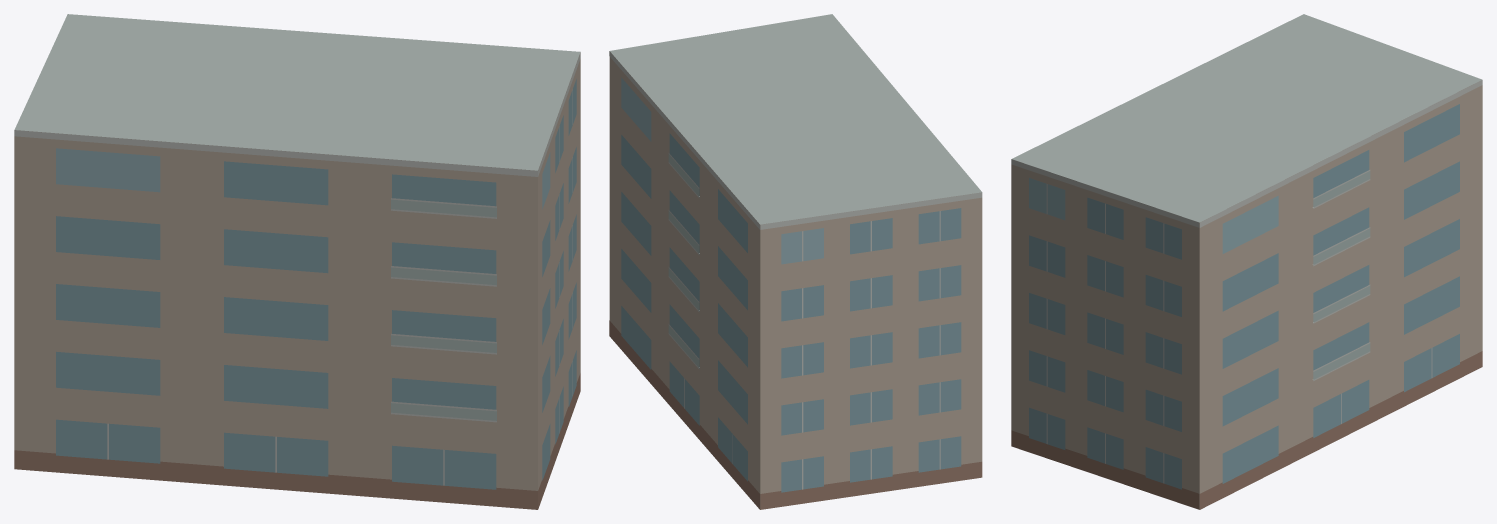
File: survey-upis-32677854.glb
3 views of the same model, side by side, from view 1: azimuth 30°, elevation 25°; view 2: azimuth 150°, elevation 25°; view 3: azimuth 270°, elevation 25° (orthographic). The views are drawn at different scales.
Parts seen in each view (by area): view 1: survey-upis-32677854.tmp; view 2: survey-upis-32677854.tmp; view 3: survey-upis-32677854.tmp.
Boxes of the visible parts, x1=… form: survey-upis-32677854.tmp: x1=14, y1=14, x2=580, y2=509; survey-upis-32677854.tmp: x1=609, y1=14, x2=982, y2=509; survey-upis-32677854.tmp: x1=1011, y1=14, x2=1482, y2=509.
Bounding box in the file's own units: 20.41 × 13.1 × 19.48.
